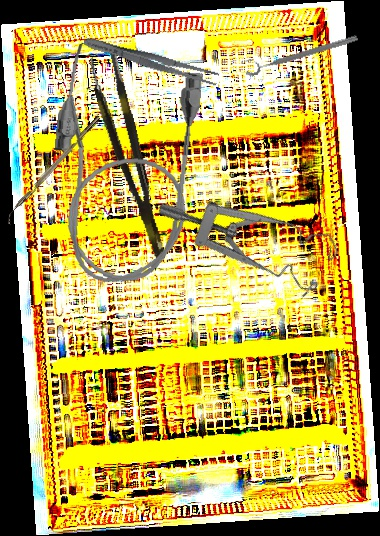Cannula: (41, 41, 205, 291)
Chopper: (2, 115, 105, 226)
Dressing Forceps: (81, 32, 221, 89)
Fixation Ring: (241, 26, 360, 78)
Speculum: (154, 136, 350, 327)
Tissue Forceps: (86, 51, 169, 265)
